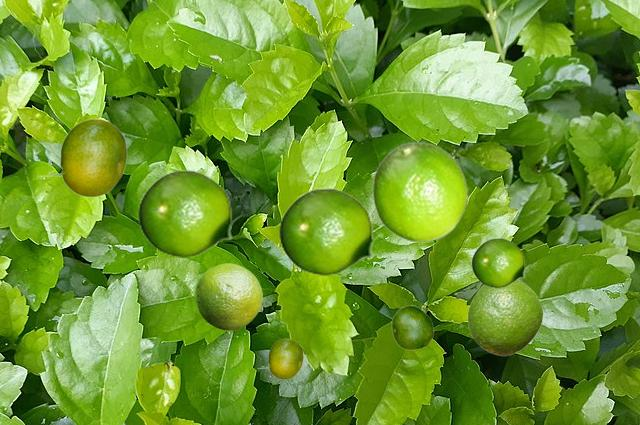calamansi: (372, 141, 467, 241), (278, 188, 383, 275), (137, 170, 242, 257), (37, 118, 126, 196), (467, 279, 542, 355), (195, 263, 261, 329), (471, 238, 530, 287), (391, 305, 433, 349), (256, 338, 302, 378)
